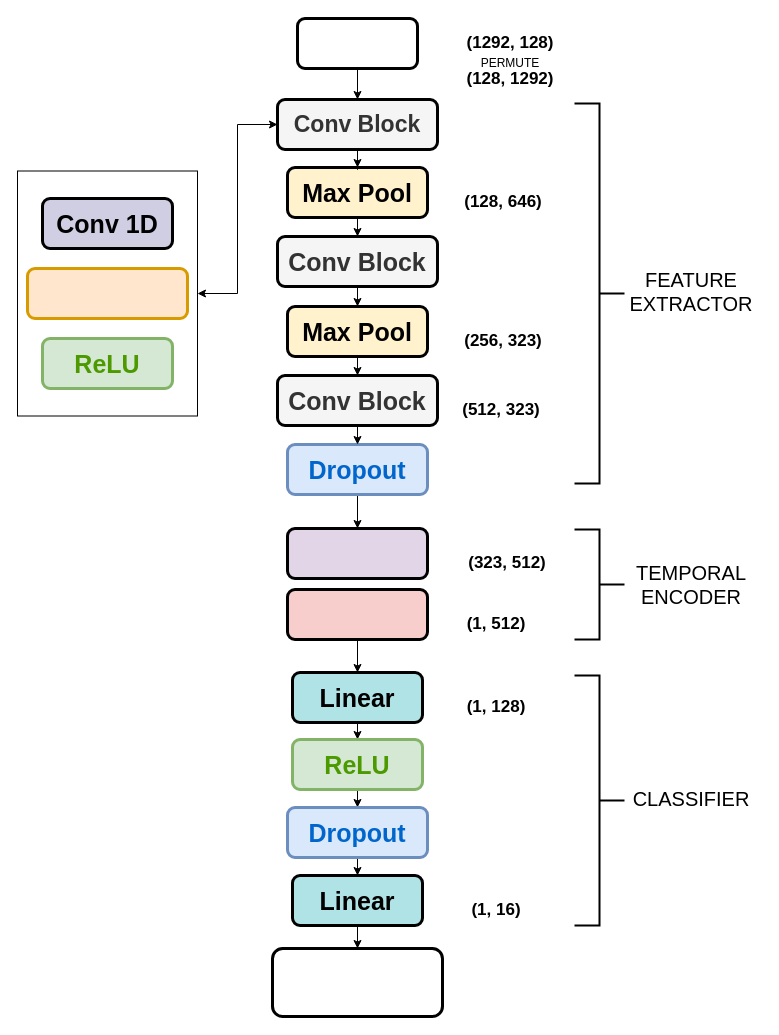
This 779x1035 diagram has some shape labels left out. Here are the shapes that lost their labels. From the top down, the box of each, then its label:
(296, 16, 418, 70): Input
(26, 266, 188, 320): Batch Norm
(286, 526, 428, 580): GRU
(286, 588, 428, 640): Pooling
(270, 946, 444, 1018): Output (predictions)
